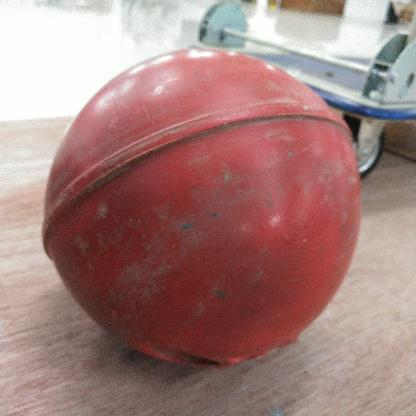red_buoy: (41, 48, 360, 376)
